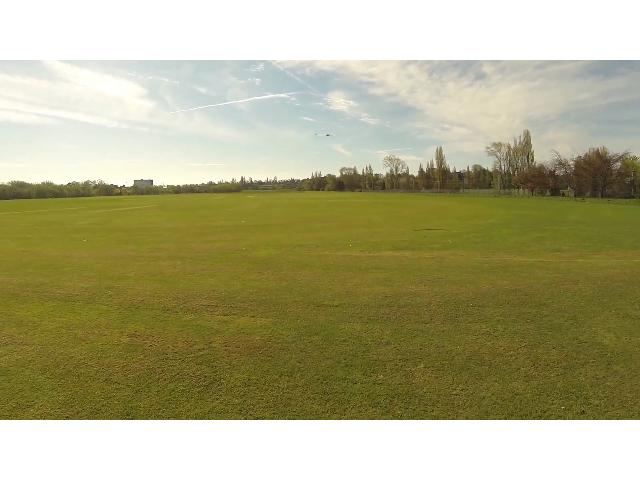Anti-Drone: (314, 128, 336, 142)
